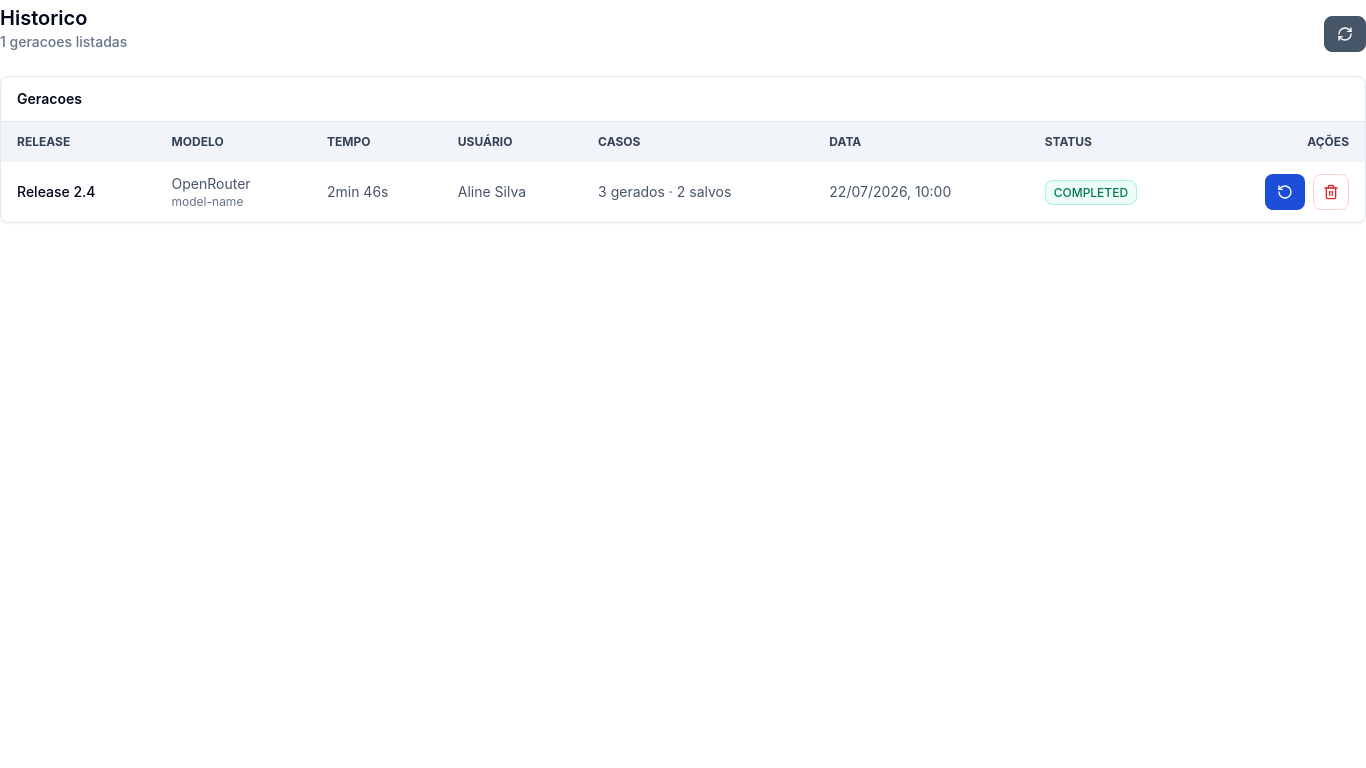
Test: AiHistoryPage › keeps the row and reports the error when deletion fails
Check: the button "Release 2.4" is shown, box [17,182,96,202]
Click the button named "Excluir geração Release 2.4": (1331, 192) [1313,174,1349,210]
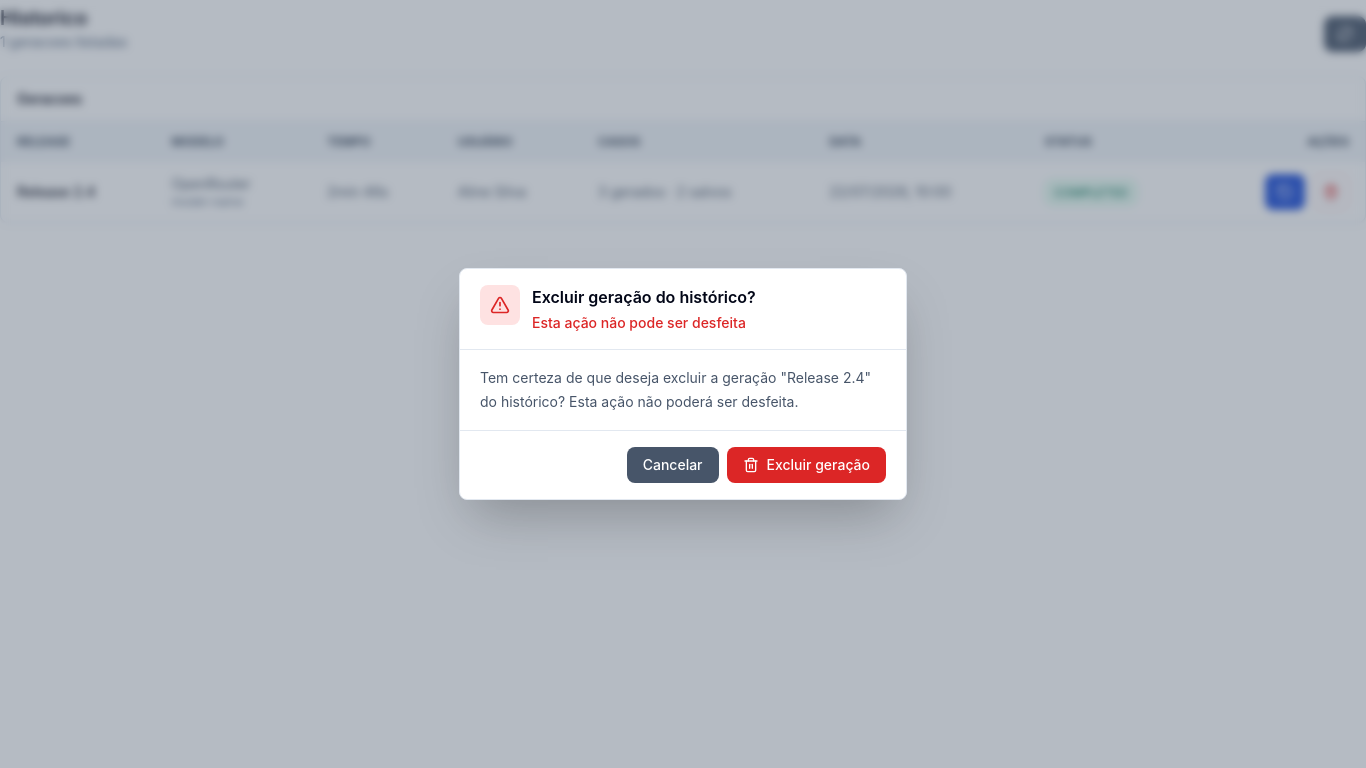
Click the button "Excluir geração": (806, 465) [726,447,886,483]
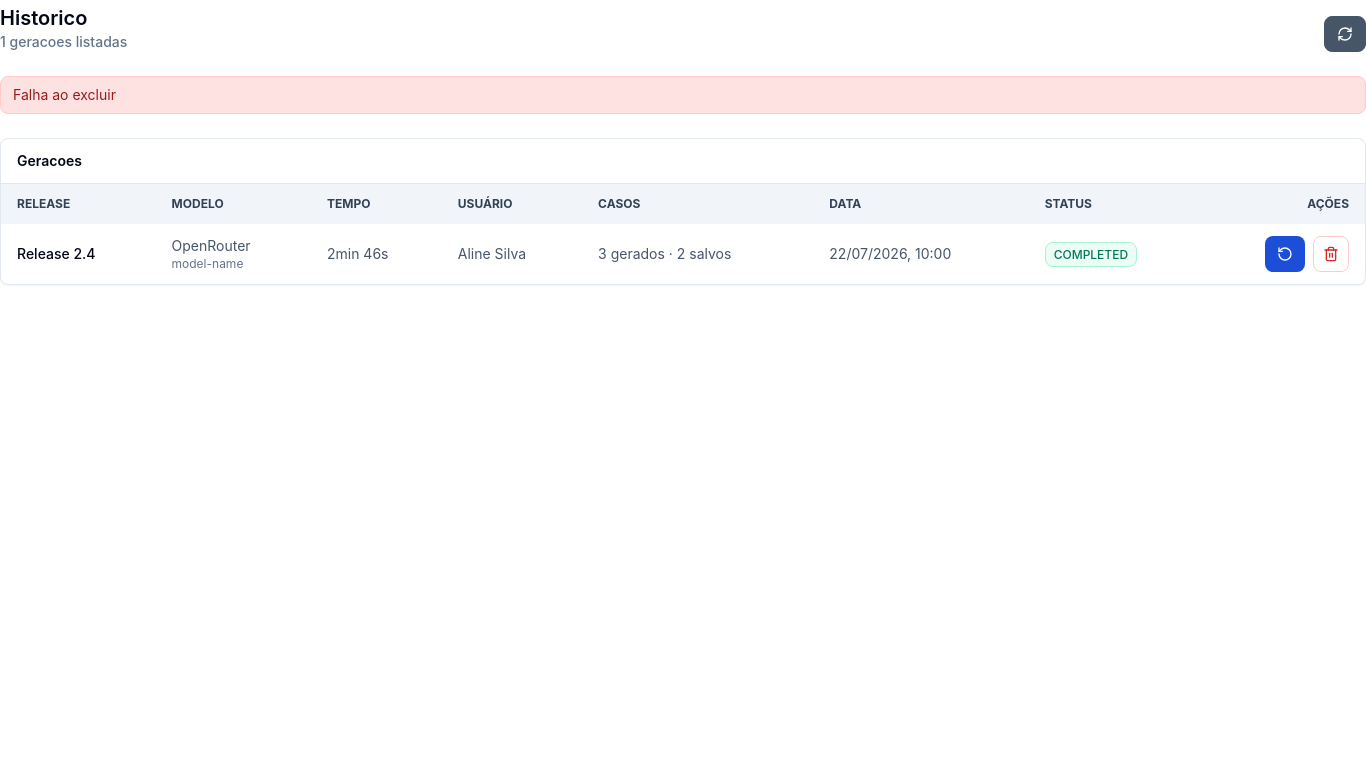
Check: the button "Release 2.4" is shown, box [17,244,96,264]
Check: the text "Falha ao excluir" is shown, box [0,76,1365,114]
